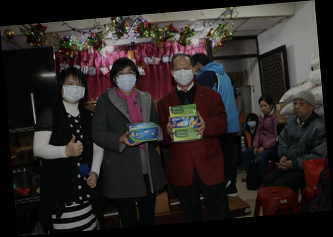with_mask: (62, 80, 87, 104), (115, 69, 137, 91), (174, 65, 193, 86), (248, 119, 258, 129)
without_mask: (294, 100, 312, 118), (260, 103, 272, 115)
